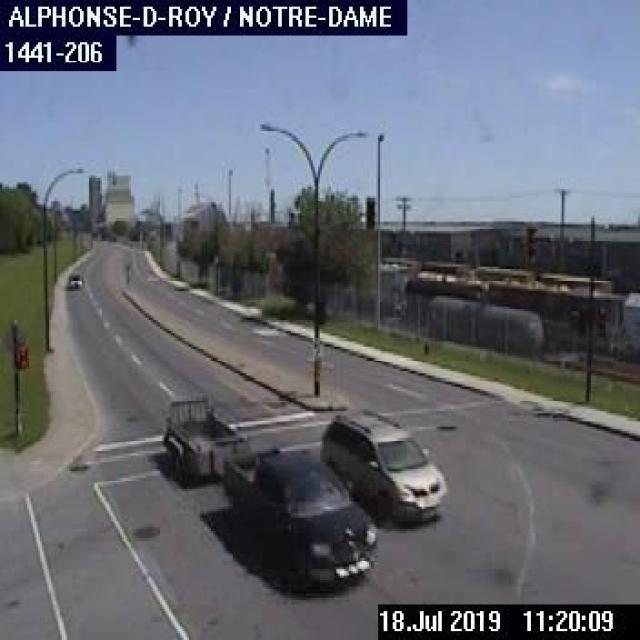vehicle: (160, 391, 377, 587), (312, 400, 449, 528), (66, 269, 86, 287)
